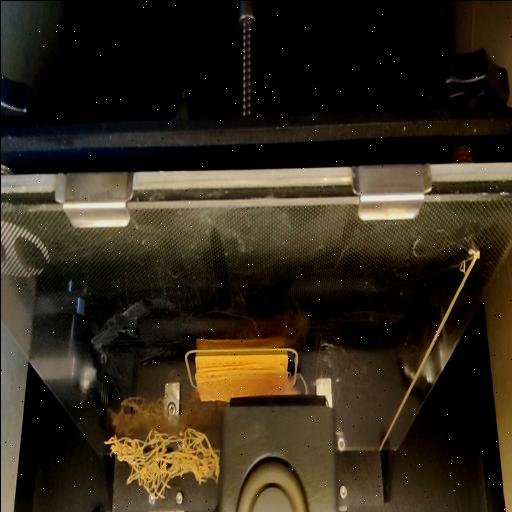spaghetti: (106, 423, 222, 501)
